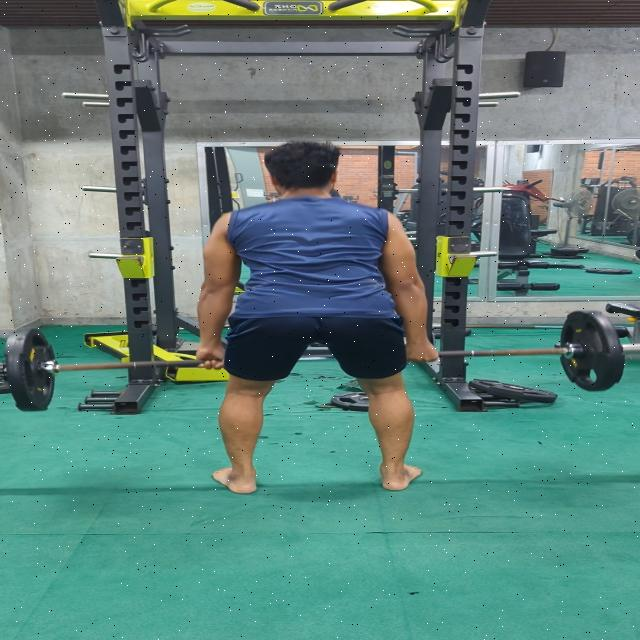Normal_Deadlifts: (192, 140, 448, 494)
